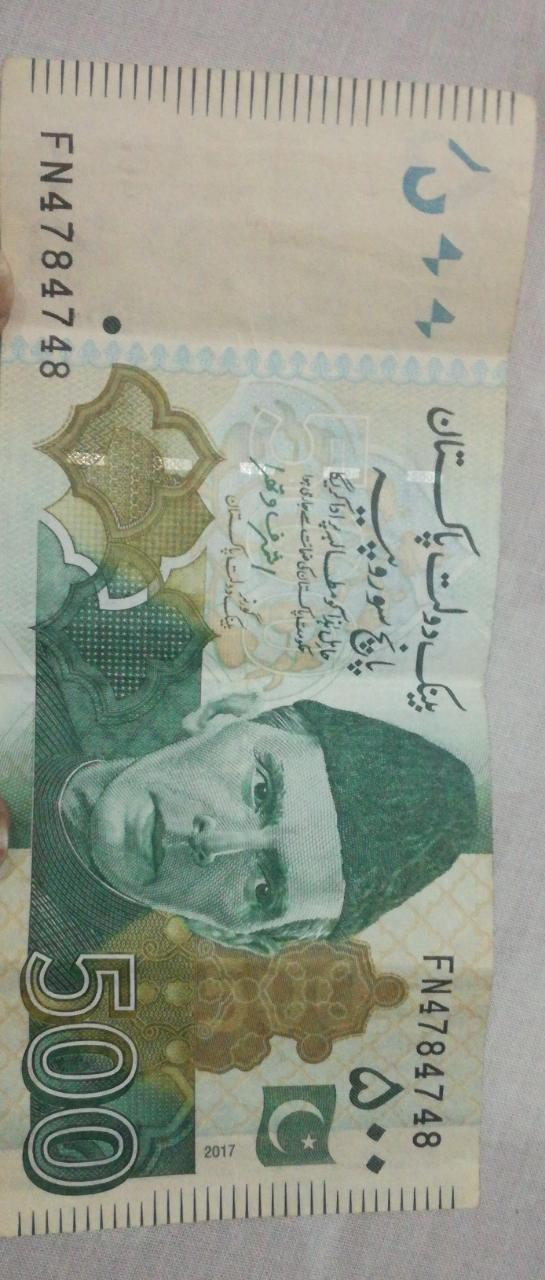500 rupee: (8, 76, 509, 1209)
